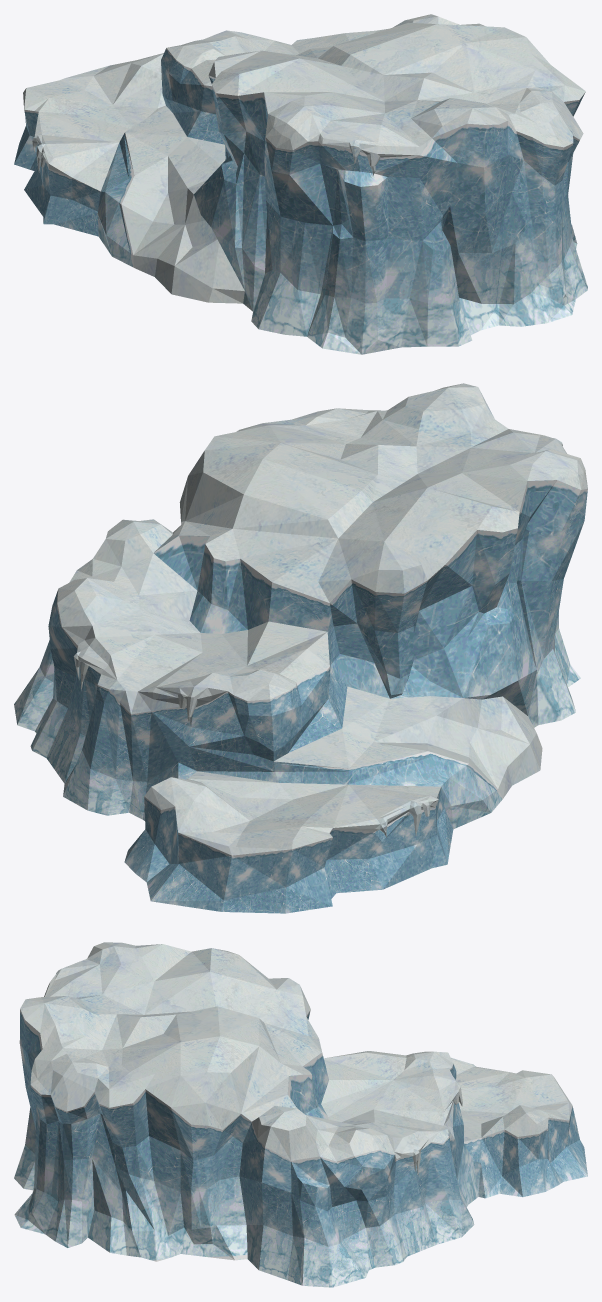
File: C1SNICEGLACIER_H.bgf.obj
3 views of the same model, one above another, from view 1: azimuth 30°, elevation 25°; view 2: azimuth 150°, elevation 25°; view 3: azimuth 270°, elevation 25° (orthographic). The views are drawn at different scales.
Parts seen in each view (by area): view 1: C1SNICEGLACIER; view 2: C1SNICEGLACIER; view 3: C1SNICEGLACIER.
Boxes of the visible parts, x1,y1,x2,y2 form: C1SNICEGLACIER: (14, 14, 587, 354); C1SNICEGLACIER: (14, 383, 587, 913); C1SNICEGLACIER: (14, 942, 587, 1287).
Size of the model in its own units: 63.19 by 31.19 by 82.53.
2 materials, 2 textured.
